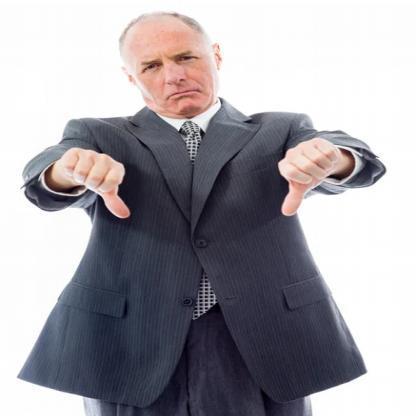thumb_down: (274, 132, 348, 216), (58, 144, 134, 222)
